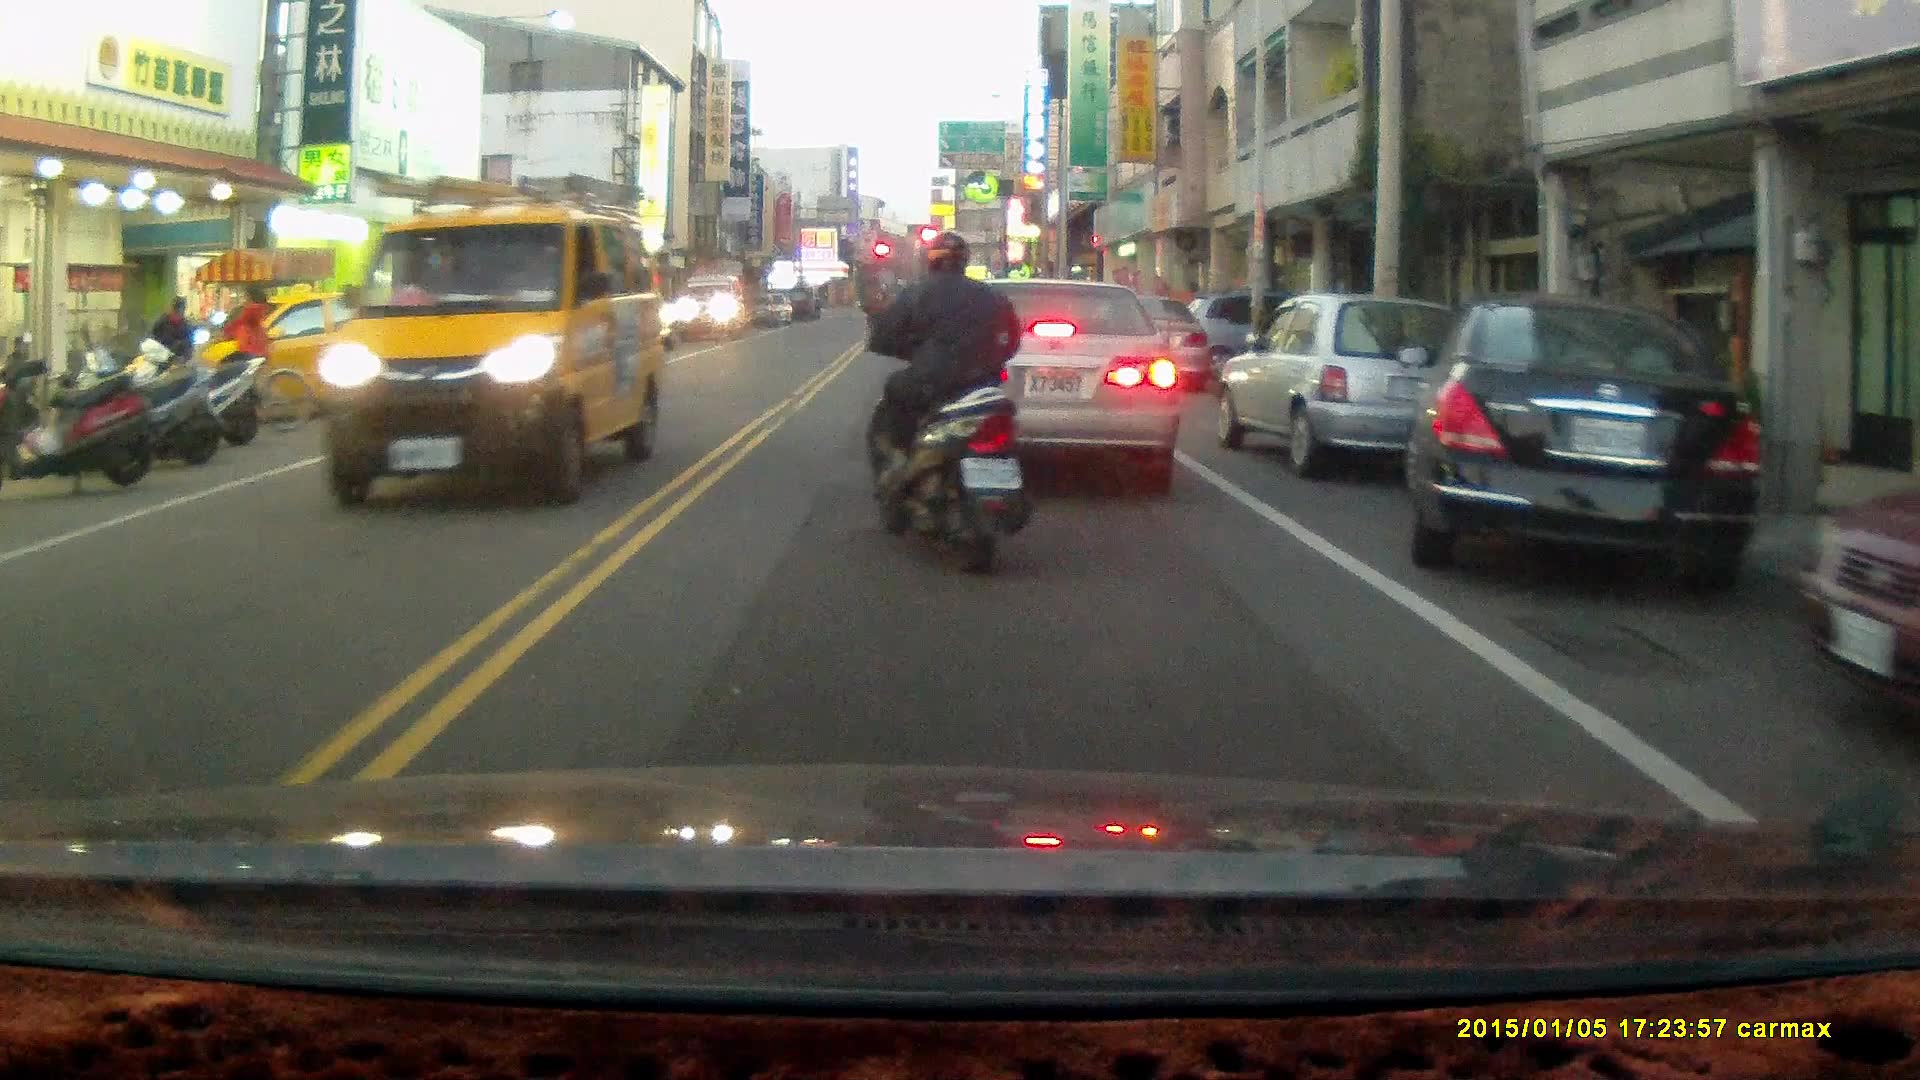pedestrian: (147, 292, 196, 399)
rider: (859, 221, 1043, 572), (190, 279, 309, 437)
vehicle: (315, 172, 673, 510), (1395, 294, 1768, 599), (918, 277, 1186, 491), (1220, 293, 1461, 477), (190, 288, 461, 414), (1806, 452, 1920, 753), (683, 268, 752, 338)
